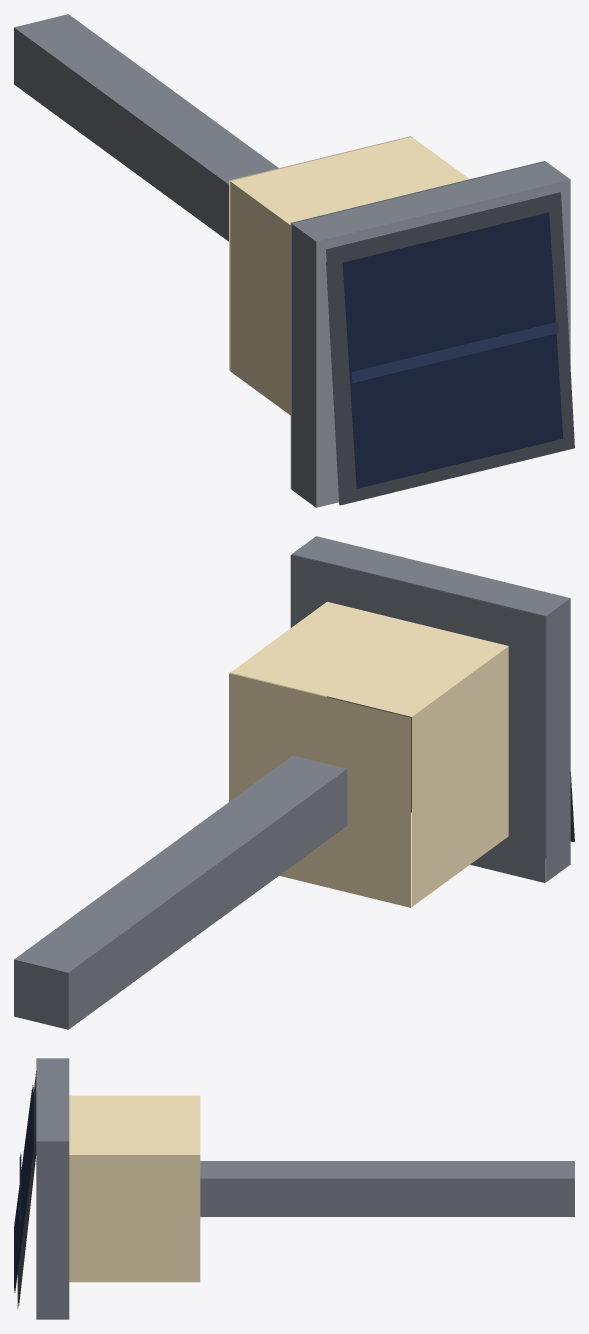
The model's file is lamp_ground_garden_on_S.obj.
The picture shows the model from 3 angles, top to bottom: view 1: azimuth 30°, elevation 25°; view 2: azimuth 150°, elevation 25°; view 3: azimuth 270°, elevation 25°; orthographic projection. The views are drawn at different scales.
Visible parts, largest first — view 1: lamp_ground_garden_on_S; view 2: lamp_ground_garden_on_S; view 3: lamp_ground_garden_on_S.
Part boxes in pixels (bbox=[...]): lamp_ground_garden_on_S: bbox=[14, 14, 574, 507]; lamp_ground_garden_on_S: bbox=[14, 536, 574, 1029]; lamp_ground_garden_on_S: bbox=[14, 1058, 574, 1319].
Bounding box in the file's own units: 0.21 × 0.21 × 0.599.
Materials: 1 (1 with a texture image).
